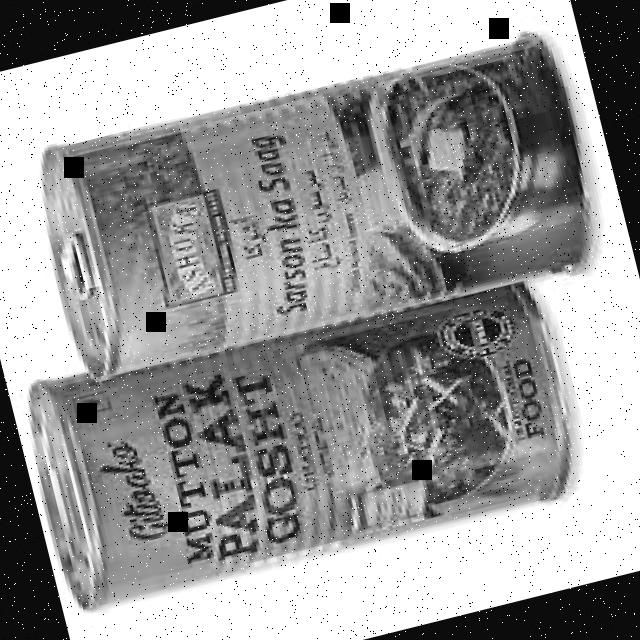can: (16, 14, 611, 398), (11, 254, 588, 621)
